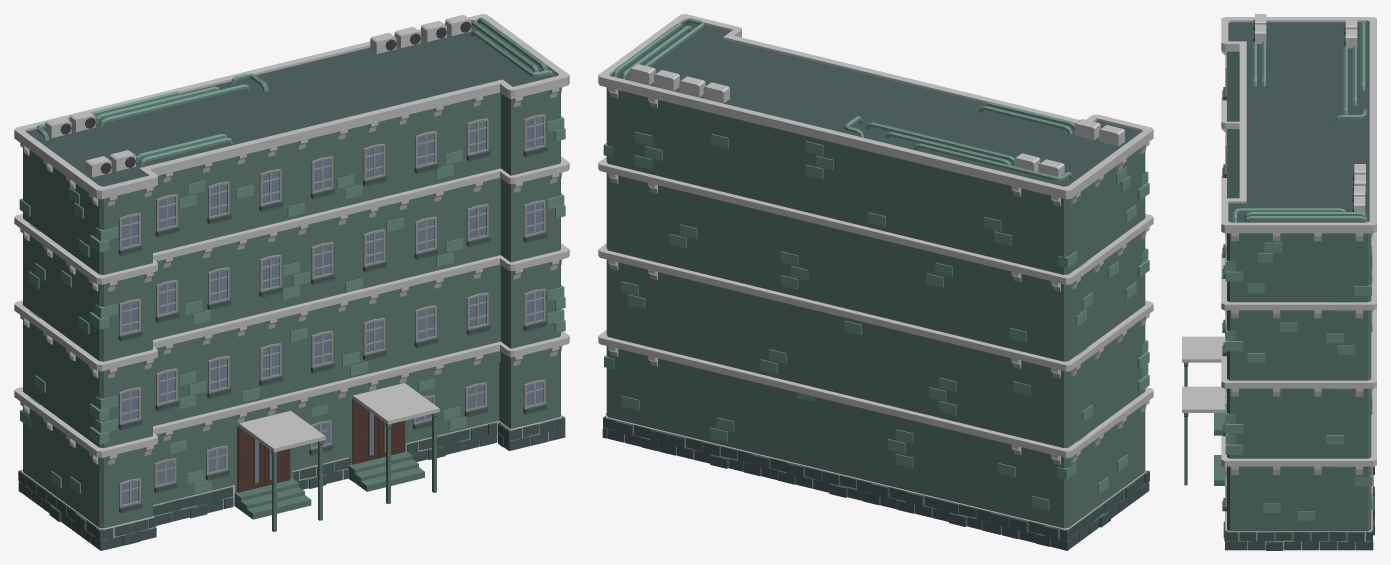
File: skyscraper-b.high.glb
The picture shows the model from 3 angles, left to right: view 1: azimuth 30°, elevation 25°; view 2: azimuth 150°, elevation 25°; view 3: azimuth 270°, elevation 25°; orthographic projection. The views are drawn at different scales.
Visible parts, largest first — view 1: 4Story_Wide_2Doors_Mat; view 2: 4Story_Wide_2Doors_Mat; view 3: 4Story_Wide_2Doors_Mat.
Boxes of the visible parts, bbox=[...] form: 4Story_Wide_2Doors_Mat: bbox=[14, 14, 569, 550]; 4Story_Wide_2Doors_Mat: bbox=[598, 14, 1153, 550]; 4Story_Wide_2Doors_Mat: bbox=[1182, 14, 1376, 550].
Bounding box in the file's own units: 6.83 × 5.15 × 2.7.
